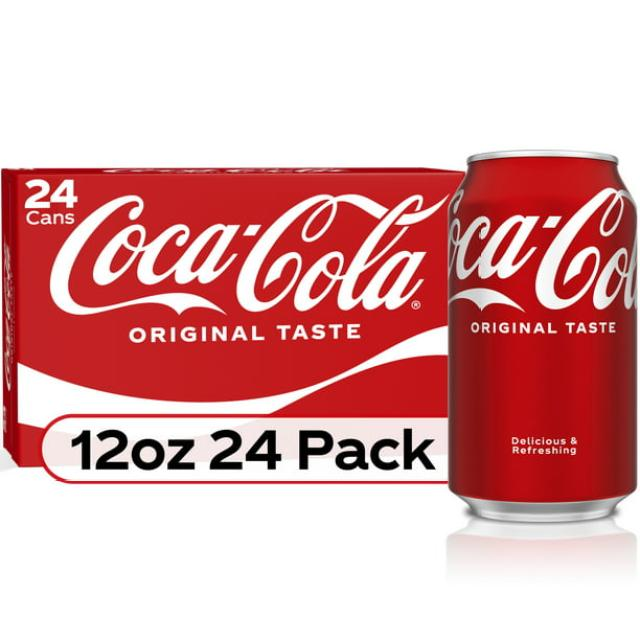can: (449, 149, 640, 531)
